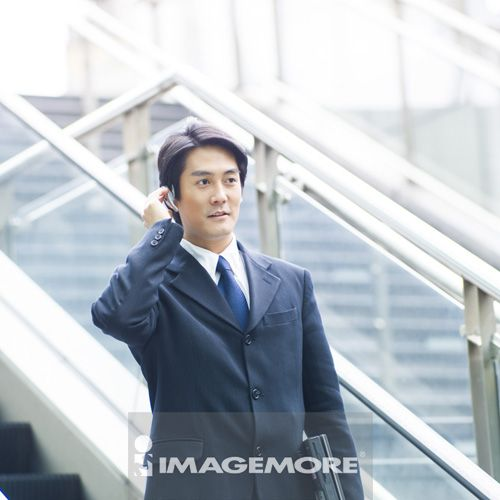talk: (141, 165, 242, 244)
